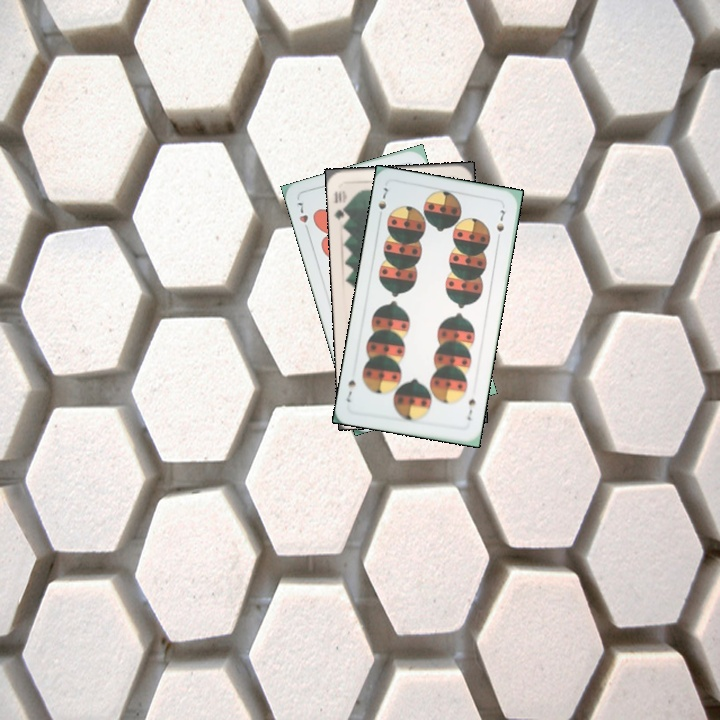G10: (330, 186, 351, 222)
H7: (292, 198, 312, 236)
S7: (374, 183, 390, 222), (463, 394, 478, 423)
